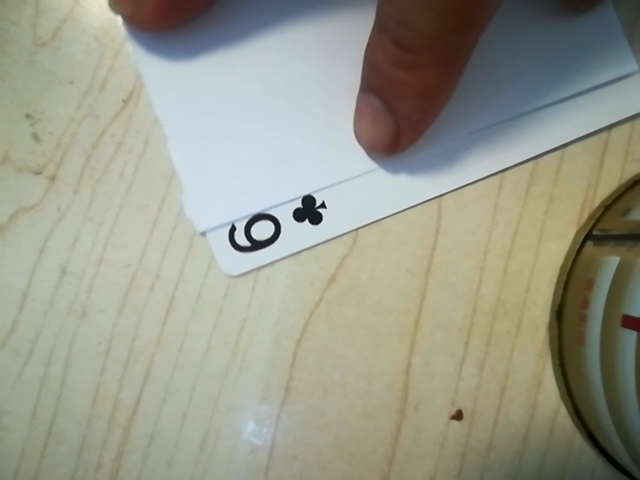mh 6: (215, 186, 340, 265)
